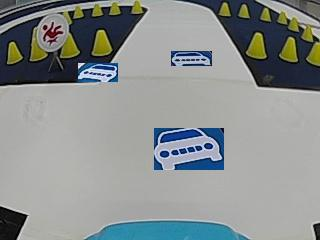cone: (90, 28, 112, 57), (246, 31, 267, 60), (279, 36, 298, 63), (60, 34, 80, 59), (6, 40, 21, 64), (29, 40, 45, 61), (306, 42, 319, 67), (237, 3, 250, 19), (218, 1, 231, 17), (301, 23, 312, 41), (72, 4, 84, 19), (91, 3, 103, 17), (260, 7, 271, 22), (288, 15, 298, 31), (131, 0, 142, 14), (109, 1, 120, 15), (277, 10, 286, 24)
tumble: (38, 17, 67, 46)
